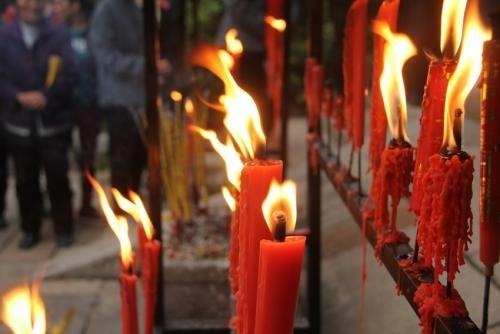fire: (193, 25, 269, 179), (435, 0, 493, 148), (87, 177, 157, 266), (376, 18, 417, 135), (0, 279, 50, 334), (261, 175, 299, 236), (221, 183, 239, 211), (267, 14, 288, 31)
